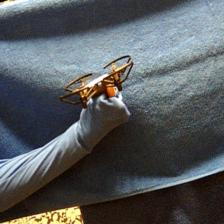drone: (60, 54, 134, 108)
